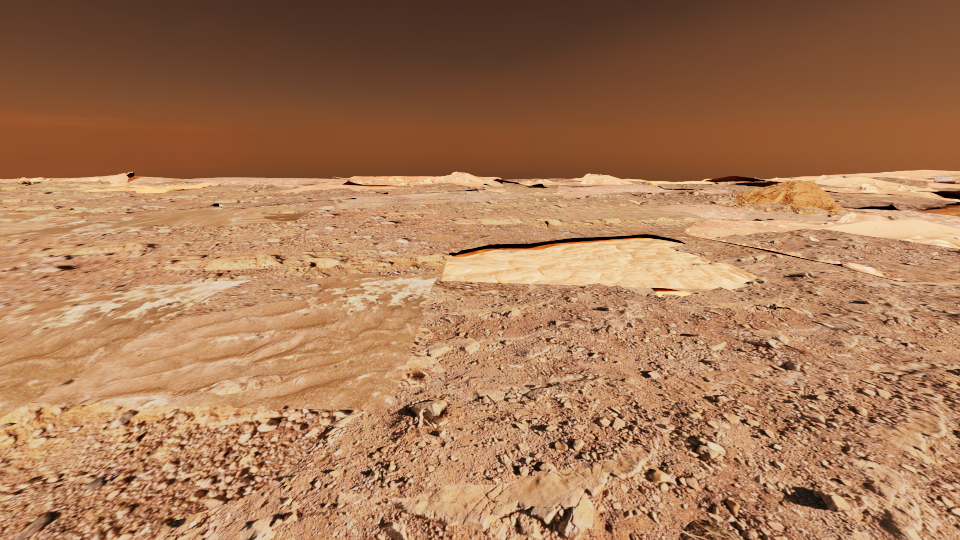bedrock: (154, 229, 959, 539), (0, 402, 342, 492), (561, 182, 959, 227), (198, 183, 572, 209), (151, 250, 448, 275), (440, 208, 703, 229), (20, 239, 236, 256), (198, 375, 282, 394), (189, 179, 326, 190), (0, 195, 111, 202), (0, 204, 103, 211), (0, 185, 113, 191), (871, 177, 930, 187), (374, 209, 465, 215), (259, 207, 314, 212), (101, 465, 124, 475), (164, 206, 200, 212), (158, 194, 224, 197), (527, 183, 558, 189), (546, 178, 581, 182), (929, 187, 959, 191), (818, 184, 847, 188), (304, 428, 318, 436), (506, 179, 538, 182), (17, 180, 35, 185), (629, 181, 651, 184), (513, 204, 543, 206), (503, 182, 521, 185)
rocks: (735, 181, 841, 210), (923, 175, 959, 183)
sand: (0, 277, 437, 417), (441, 234, 756, 296), (0, 204, 334, 239), (49, 176, 246, 193), (827, 170, 959, 187), (259, 179, 410, 192), (907, 337, 959, 351), (623, 179, 715, 184), (479, 177, 502, 185), (863, 363, 886, 370), (457, 182, 486, 186), (32, 179, 89, 181), (352, 176, 389, 179), (391, 176, 427, 179), (488, 189, 505, 191)
soil: (0, 181, 880, 319), (0, 410, 355, 539), (0, 192, 281, 222), (423, 273, 529, 305), (820, 187, 936, 204), (144, 177, 340, 186), (875, 185, 959, 201), (351, 187, 468, 196), (0, 178, 111, 186), (837, 263, 884, 277), (265, 201, 336, 210), (704, 177, 770, 186), (342, 178, 423, 185), (568, 182, 661, 188), (856, 207, 916, 216), (396, 380, 432, 392), (917, 204, 959, 214), (533, 284, 580, 290), (207, 184, 262, 186), (381, 198, 417, 201), (291, 196, 317, 199)
